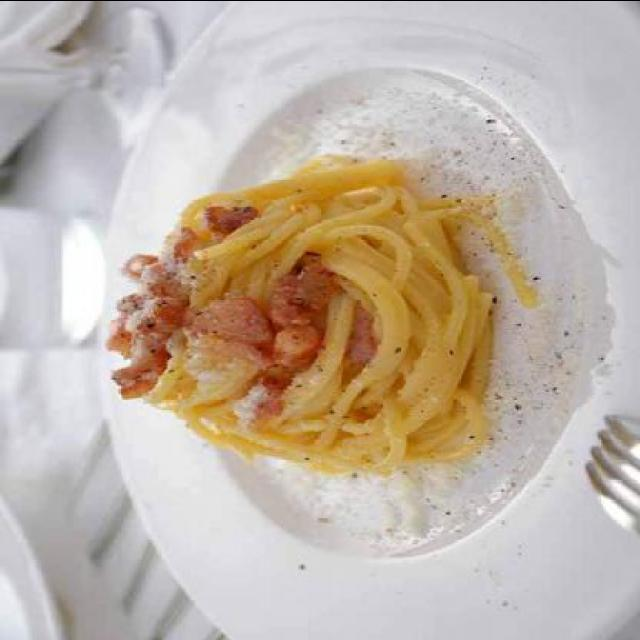Pasta with carbonara sauce: (57, 100, 534, 506)
